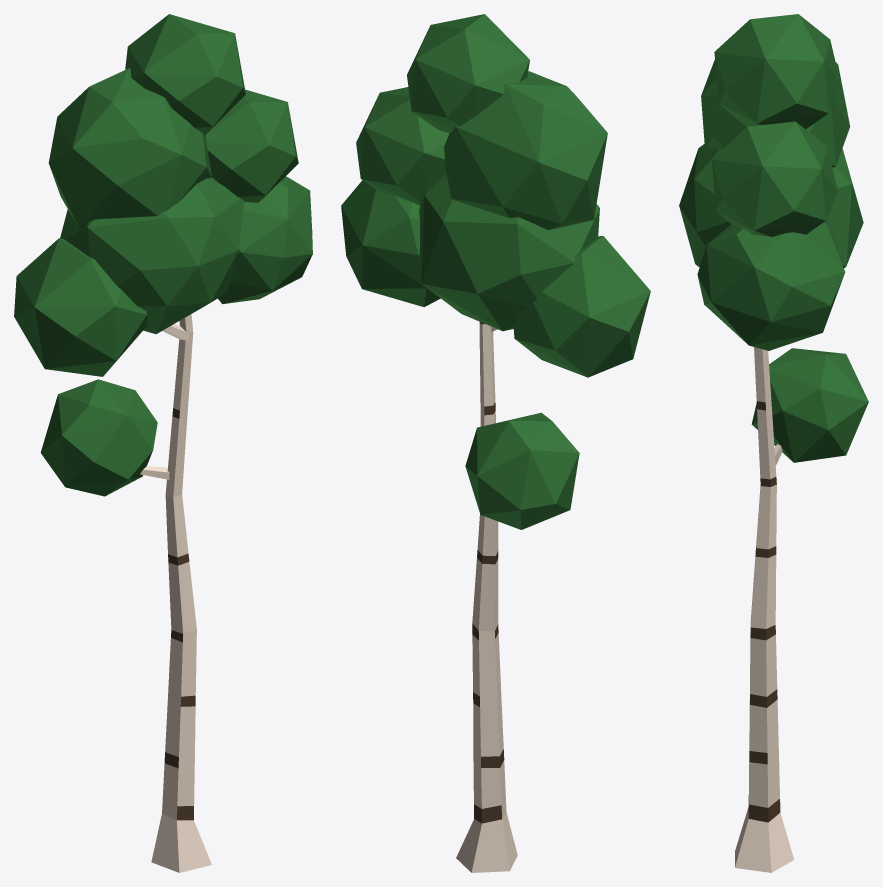
The model's file is tree-birch-tall.glb.
The picture shows the model from 3 angles, left to right: view 1: azimuth 30°, elevation 25°; view 2: azimuth 150°, elevation 25°; view 3: azimuth 270°, elevation 25°; orthographic projection. The views are drawn at different scales.
Parts seen in each view (by area): view 1: tree-birch-tall; view 2: tree-birch-tall; view 3: tree-birch-tall.
Boxes of the visible parts, bbox=[...] form: tree-birch-tall: bbox=[14, 14, 312, 872]; tree-birch-tall: bbox=[341, 14, 650, 872]; tree-birch-tall: bbox=[679, 14, 868, 872].
Size of the model in its own units: 2.89 by 7.96 by 1.62.
1 material, 1 textured.
